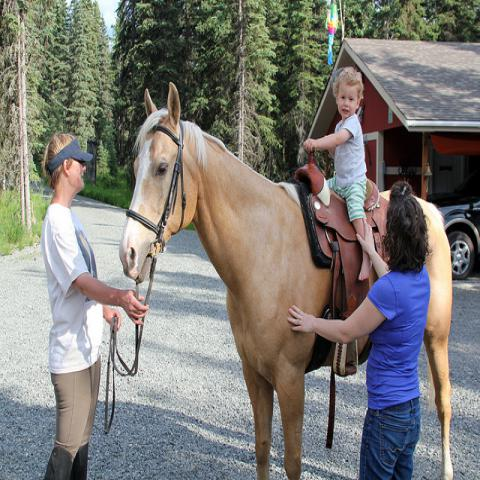truck: (428, 168, 479, 278)
